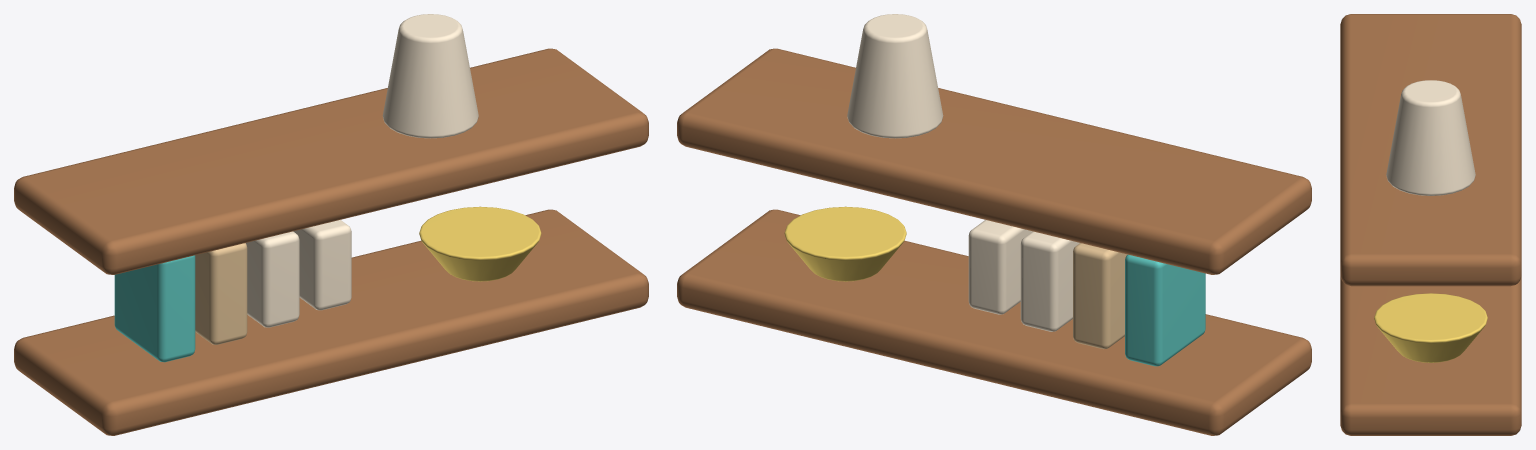
The model's file is display-shelf.glb.
3 views of the same model, side by side, from view 1: azimuth 30°, elevation 25°; view 2: azimuth 150°, elevation 25°; view 3: azimuth 270°, elevation 25° (orthographic). The views are drawn at different scales.
Visible parts, largest first — view 1: Layered display shelf.001, Layered display shelf, Shelf ceramic vase, Shelf book, Shelf bowl, Shelf book.001, Shelf book.002, Shelf book.003; view 2: Layered display shelf.001, Layered display shelf, Shelf ceramic vase, Shelf book, Shelf bowl, Shelf book.001, Shelf book.002, Shelf book.003; view 3: Layered display shelf.001, Layered display shelf, Shelf ceramic vase, Shelf bowl.
Part boxes in pixels (left/top/right/bottom): Layered display shelf.001: left=14, top=48, right=648, bottom=274; Layered display shelf: left=14, top=209, right=648, bottom=435; Shelf ceramic vase: left=382, top=14, right=478, bottom=138; Shelf book: left=114, top=255, right=195, bottom=362; Shelf bowl: left=419, top=206, right=541, bottom=281; Shelf book.001: left=195, top=243, right=247, bottom=344; Shelf book.002: left=246, top=231, right=299, bottom=327; Shelf book.003: left=293, top=220, right=351, bottom=310; Layered display shelf.001: left=677, top=48, right=1311, bottom=274; Layered display shelf: left=677, top=209, right=1311, bottom=435; Shelf ceramic vase: left=847, top=14, right=943, bottom=138; Shelf book: left=1125, top=254, right=1205, bottom=366; Shelf bowl: left=784, top=206, right=906, bottom=281; Shelf book.001: left=1073, top=243, right=1127, bottom=349; Shelf book.002: left=1020, top=231, right=1079, bottom=331; Shelf book.003: left=968, top=220, right=1032, bottom=314; Layered display shelf.001: left=1340, top=14, right=1521, bottom=286; Layered display shelf: left=1340, top=276, right=1521, bottom=435; Shelf ceramic vase: left=1386, top=80, right=1475, bottom=195; Shelf bowl: left=1374, top=293, right=1487, bottom=362.
Size of the model in its own units: 2.2 by 1.12 by 0.68.
